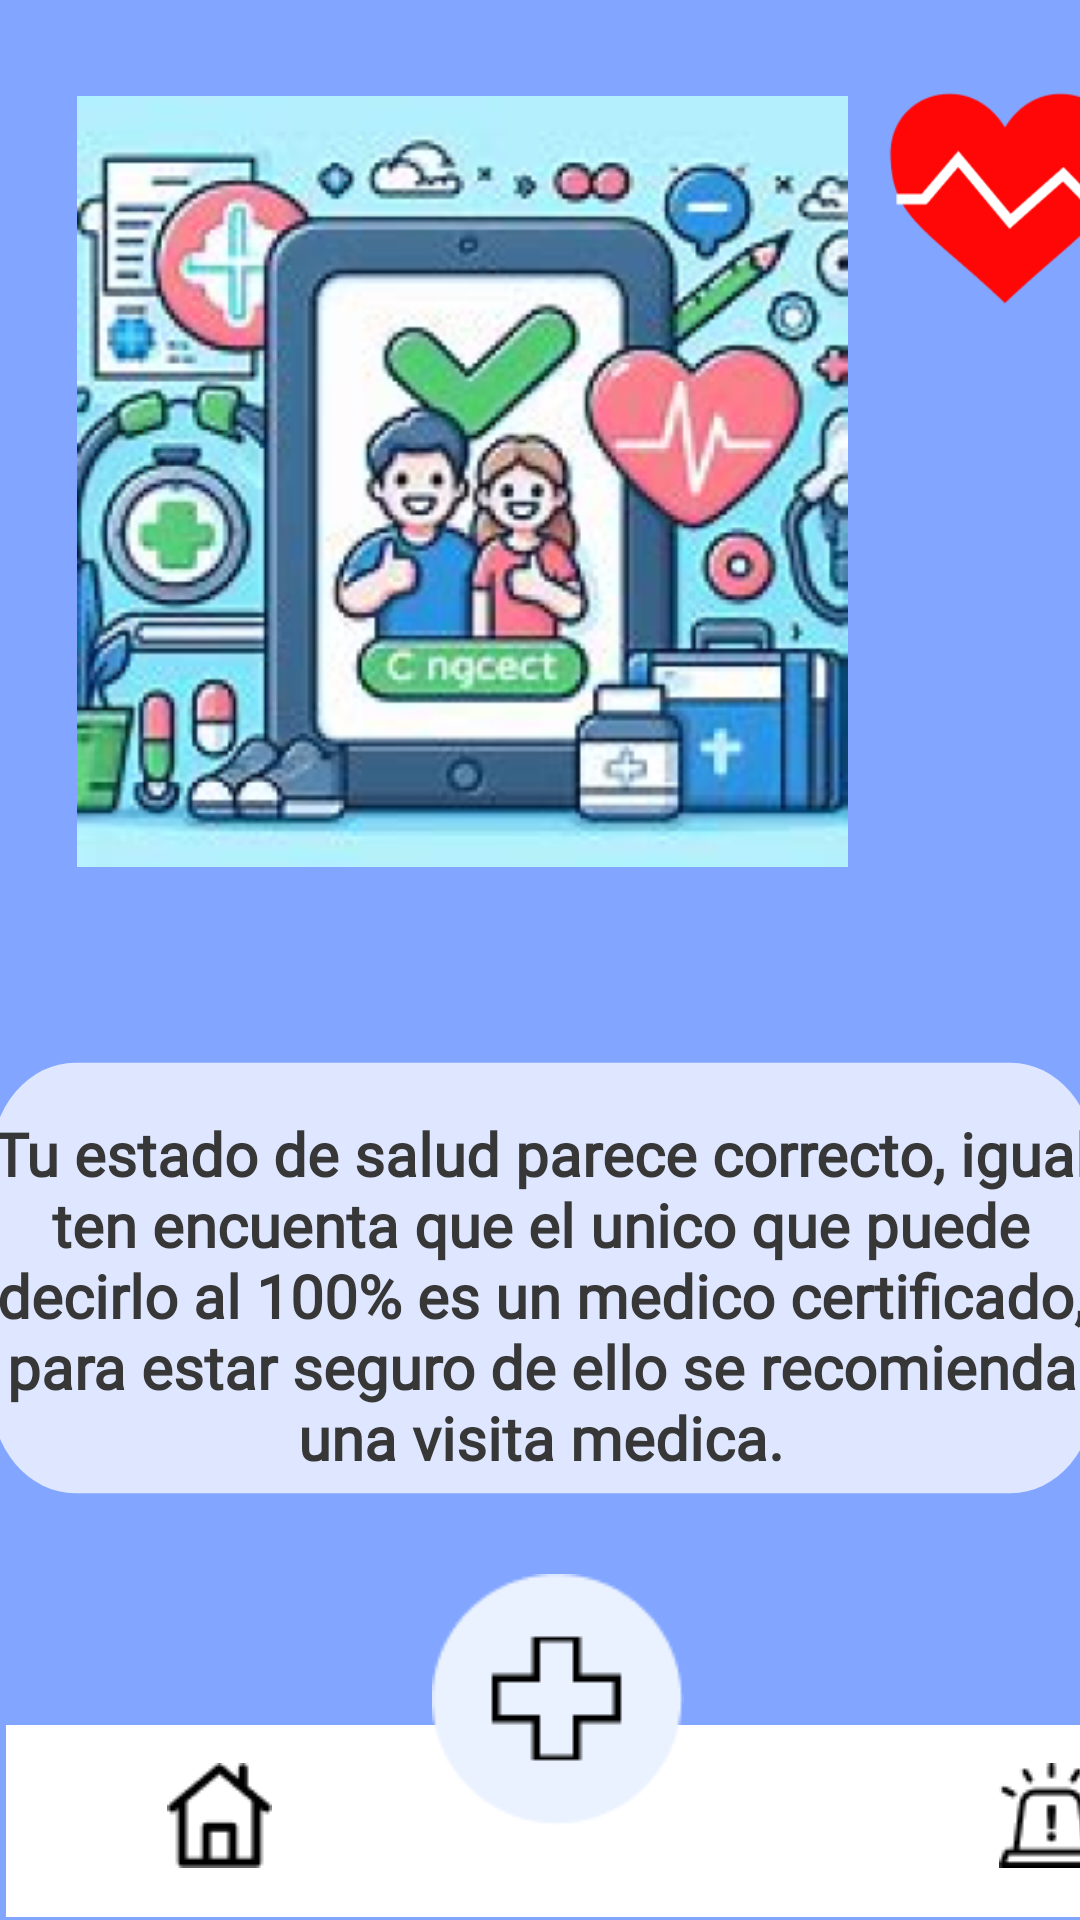

Named icons in this screenshot (1080px×1920px) and their centers, point (x, y):
casa: point (219, 1815)
